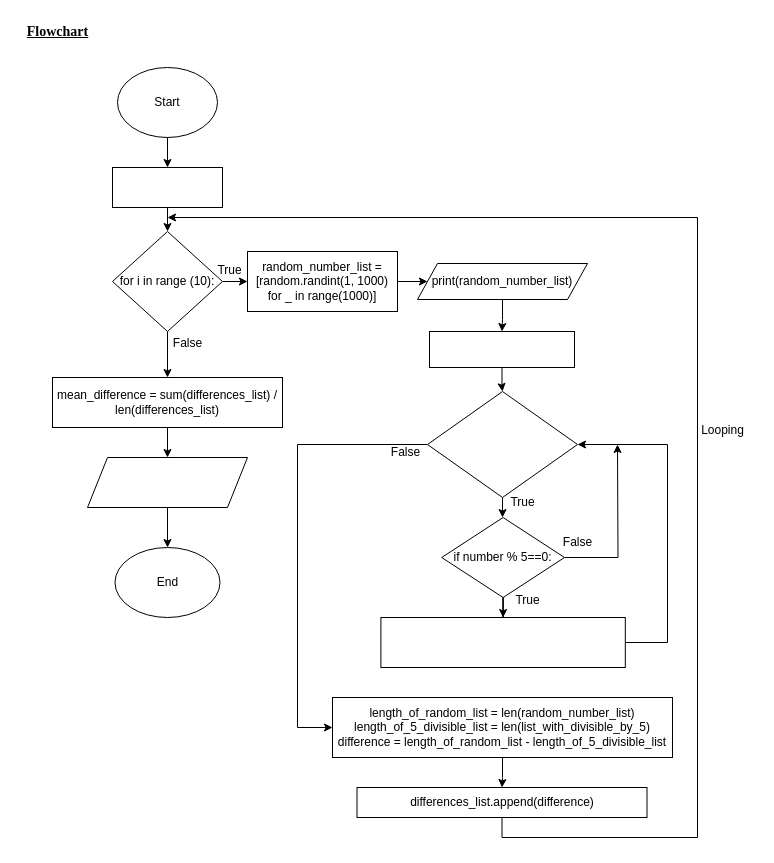
The diagram is 774 pixels wide and 863 high, and some of its shapes have lost their labels. The shapes that lost their labels are listed below. From the top down, each one's box as (x1, y1, x2, y2) in pixels, then its label:
(112, 166, 222, 208): Import the random library, i=0
(428, 330, 574, 368): list_with_divisible_by_5 = []
(426, 390, 578, 498): for number in random_number_list:
(86, 456, 248, 508): print(mean_difference)
(380, 616, 625, 668): list_with_divisible_by_5.append(number)
